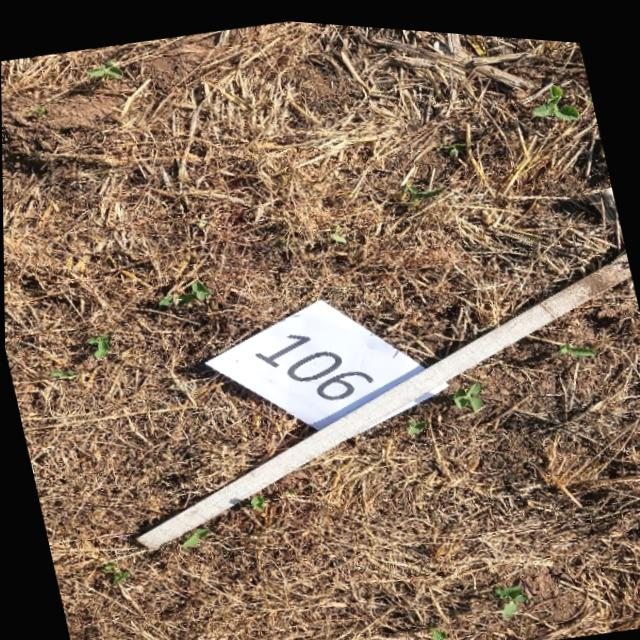soy_plant: (531, 76, 577, 112), (157, 277, 209, 303), (491, 578, 525, 610), (445, 374, 481, 403), (401, 178, 440, 201), (96, 560, 127, 583), (86, 58, 122, 76), (87, 332, 109, 357), (557, 334, 594, 348), (179, 525, 206, 543), (238, 490, 267, 506), (327, 218, 345, 238), (404, 412, 425, 429), (428, 620, 444, 636), (49, 368, 73, 378)
